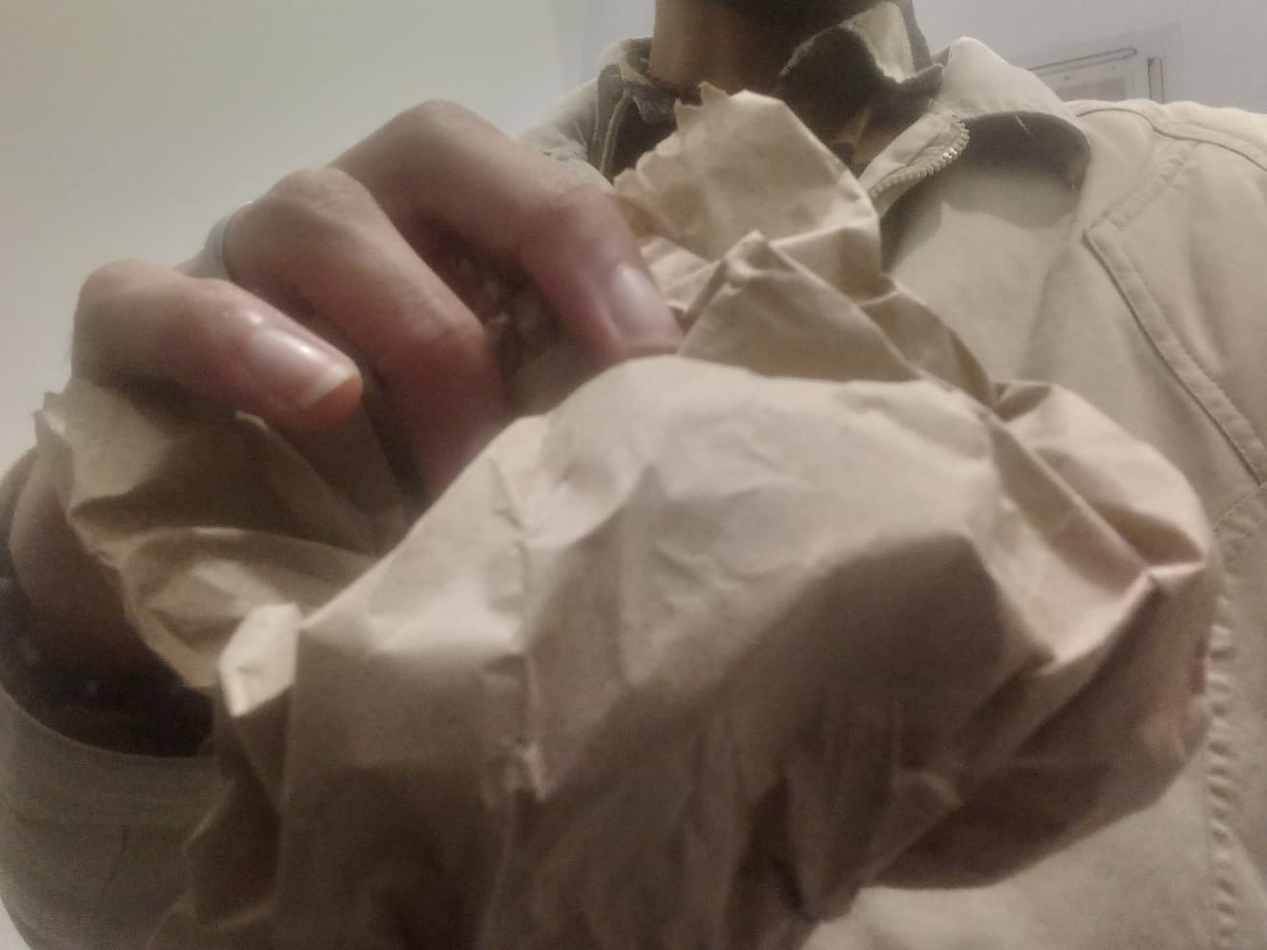Ordinario: (32, 87, 1218, 950)
